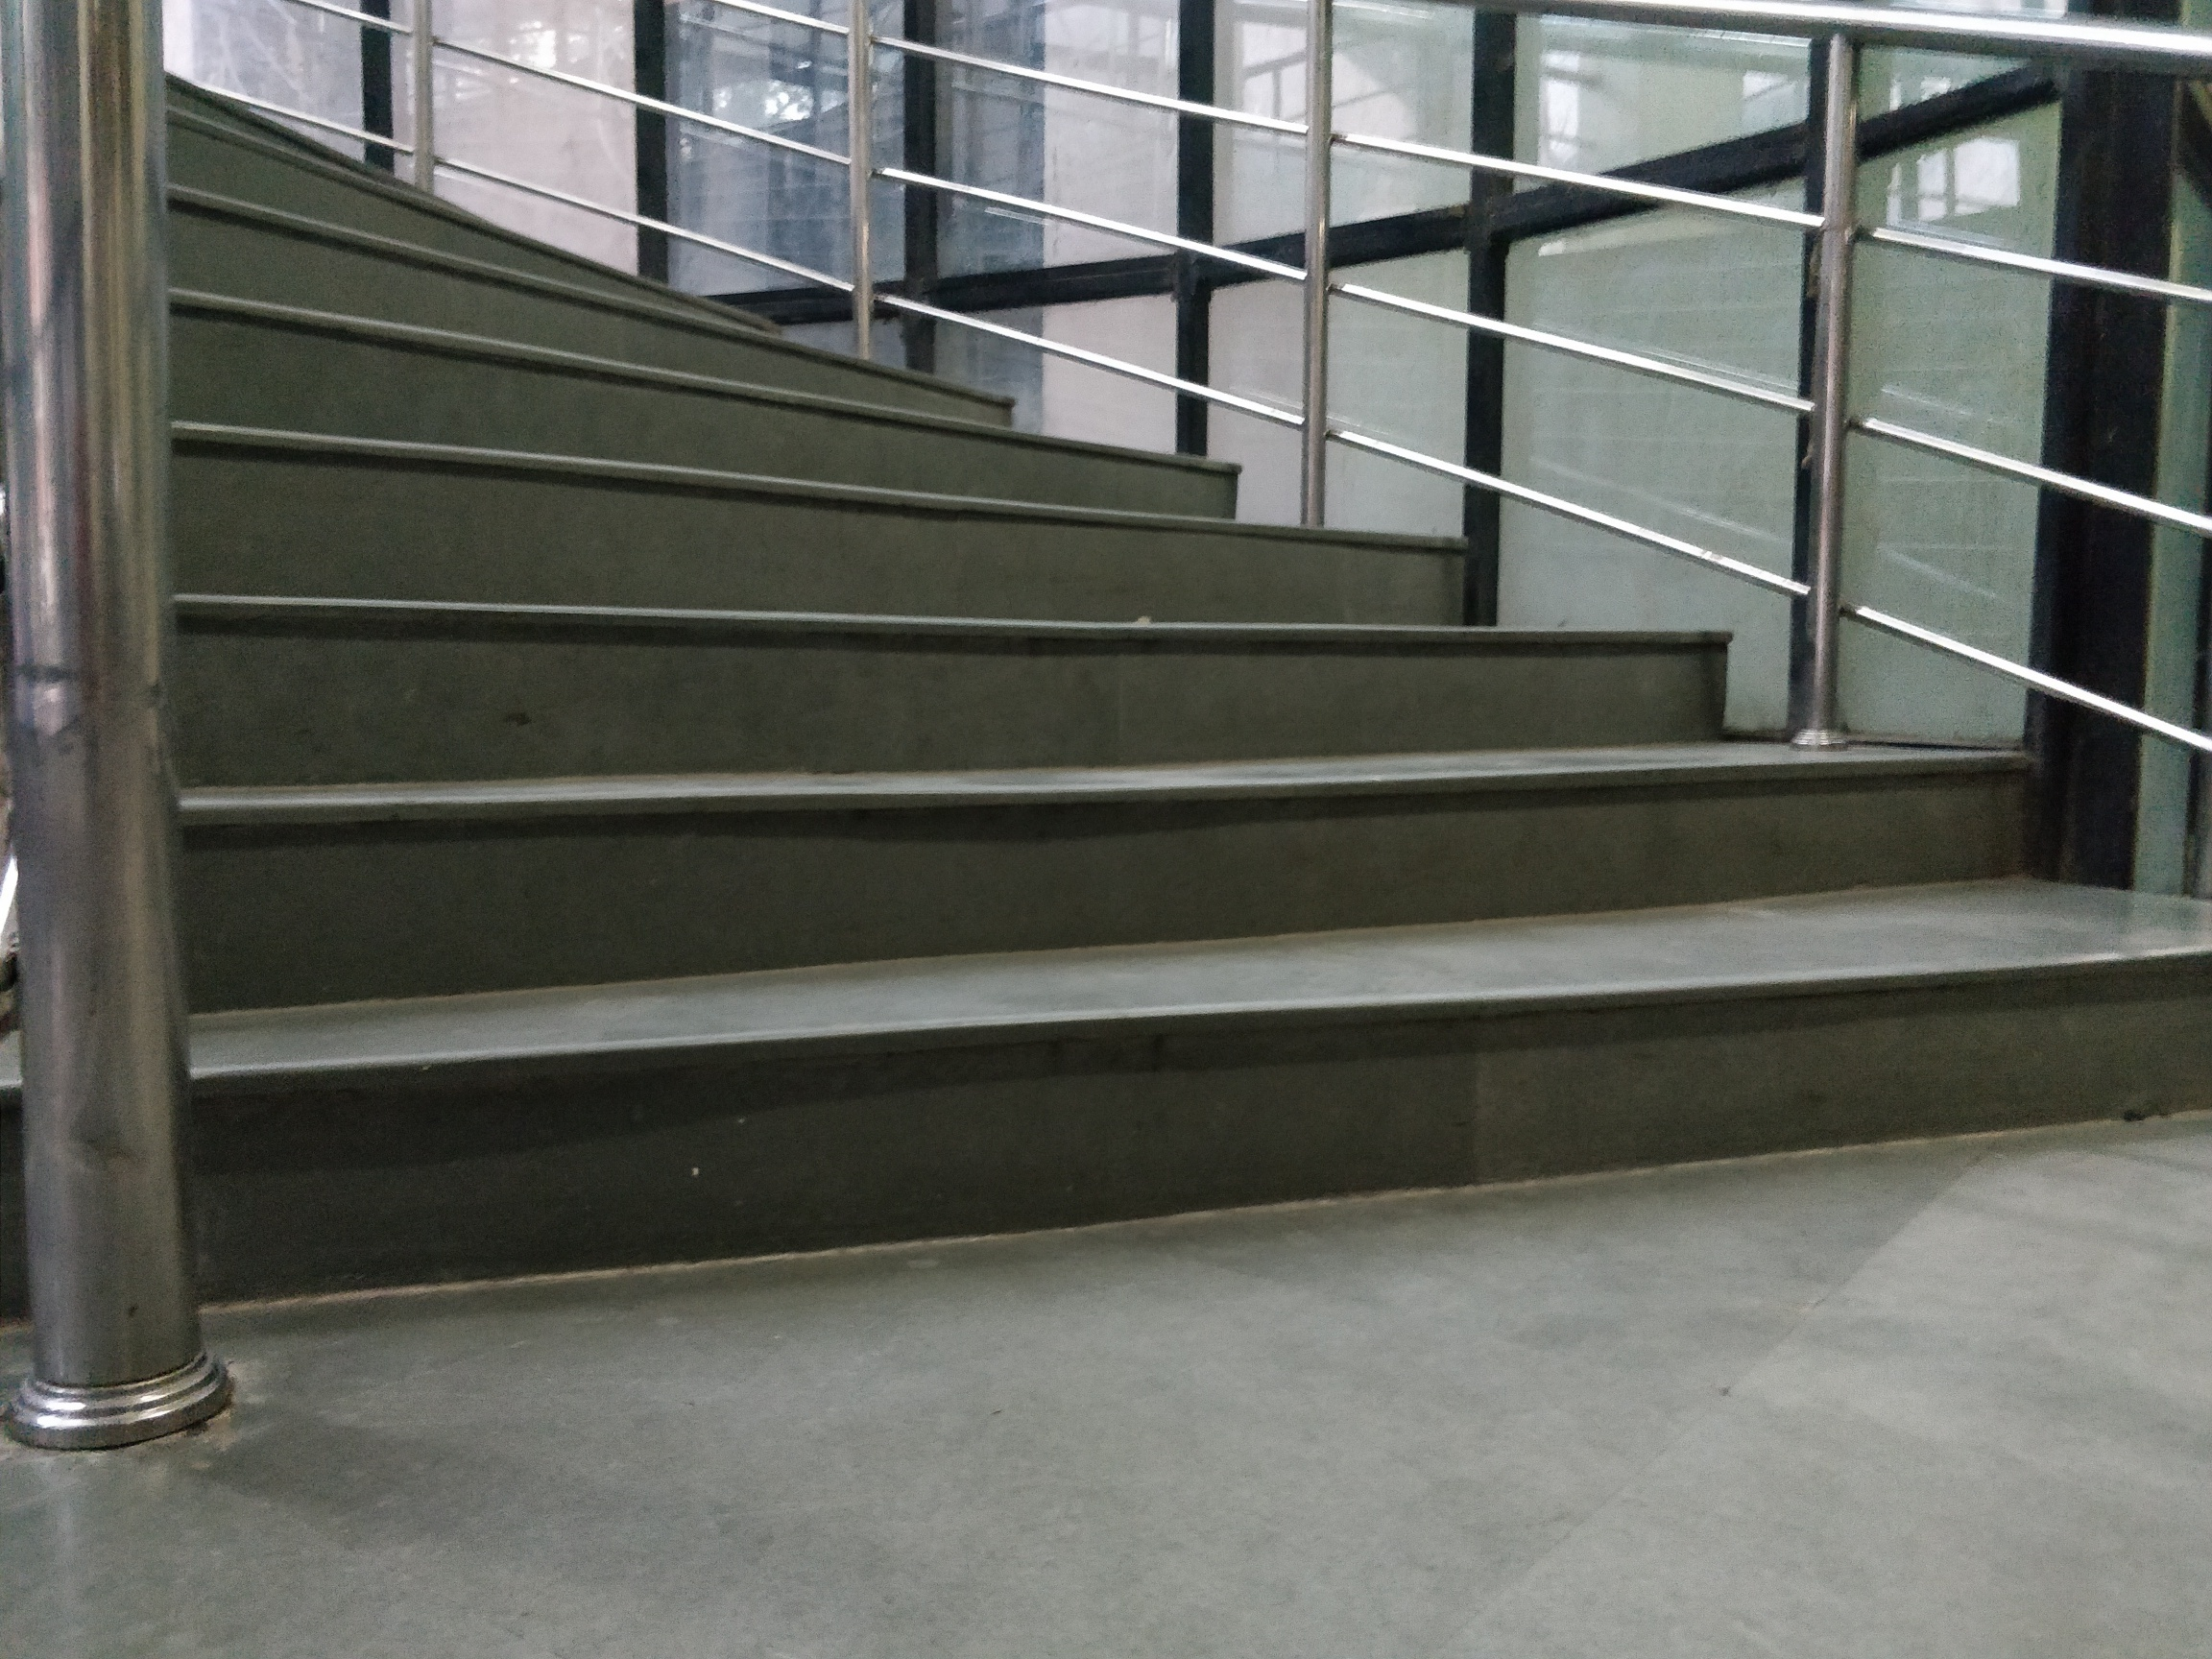stairs_up: (152, 157, 2182, 1140)
